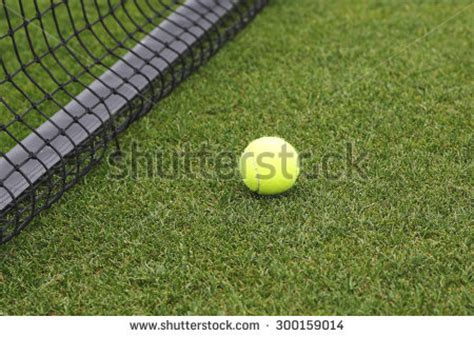tennis_ball: (240, 136, 300, 194)
